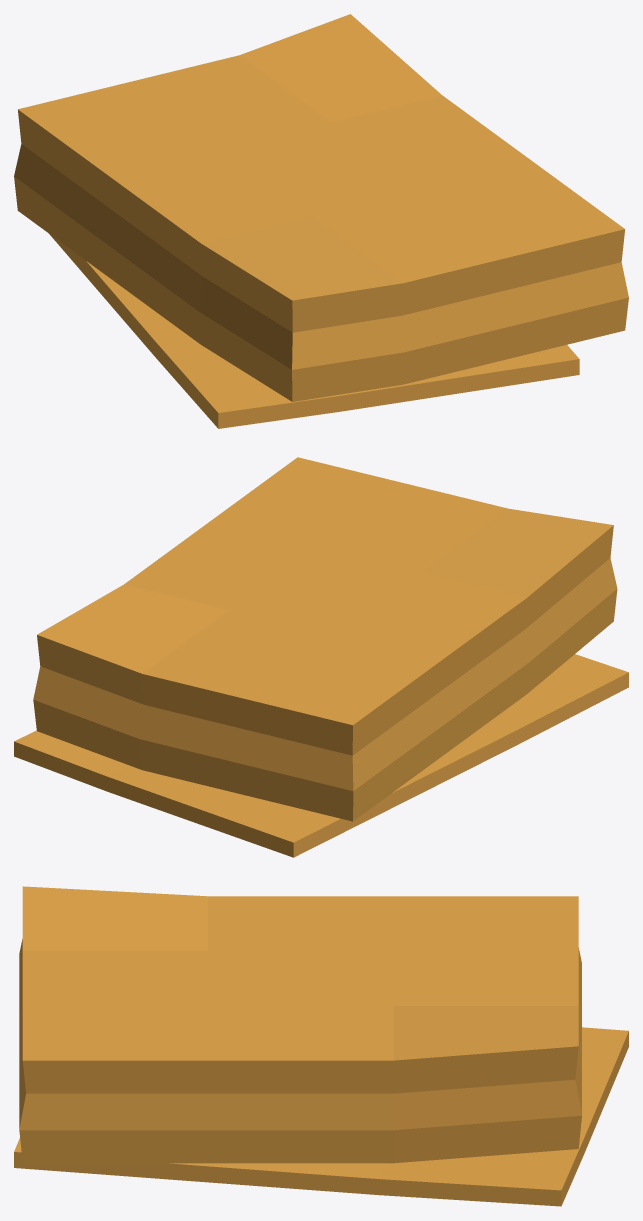
Rendered from resources-paper-old.glb.
3 views of the same model, one above another, from view 1: azimuth 30°, elevation 25°; view 2: azimuth 150°, elevation 25°; view 3: azimuth 270°, elevation 25° (orthographic). The views are drawn at different scales.
Parts seen in each view (by area): view 1: paper-old; view 2: paper-old; view 3: paper-old.
Part boxes in pixels (x1,y1,x2,y2): paper-old: (14, 14, 628, 428); paper-old: (14, 457, 628, 857); paper-old: (14, 886, 628, 1206).
Bounding box in the file's own units: 0.2588 × 0.0871 × 0.3319.
